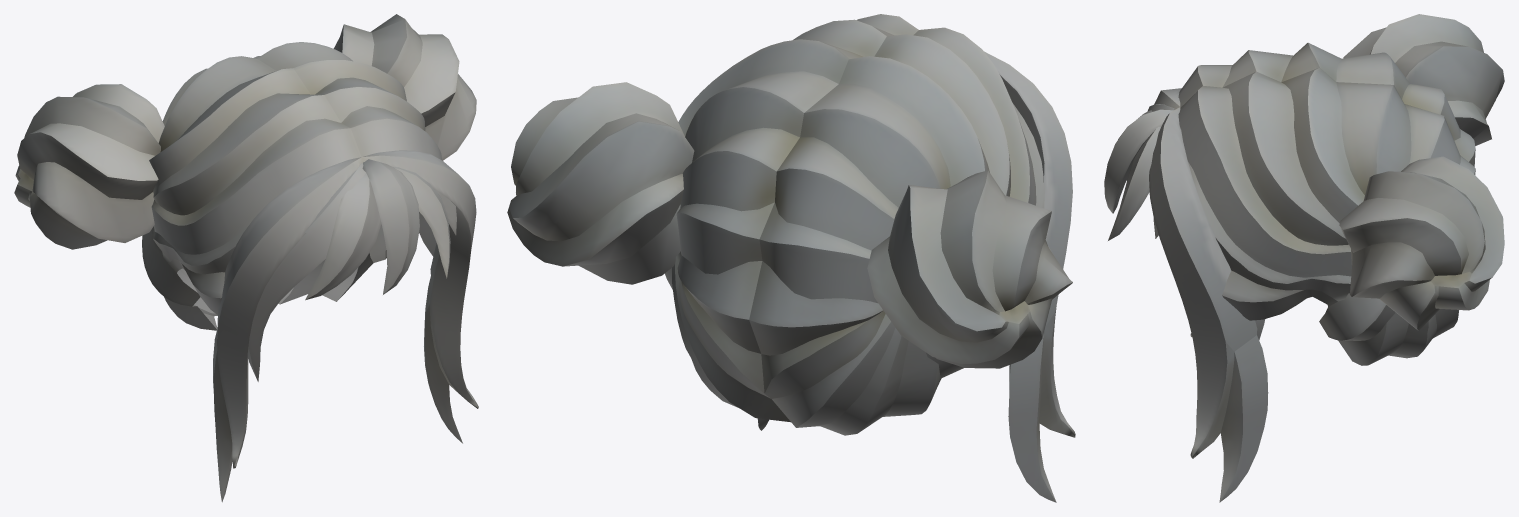
The model's file is hair_buns.glb.
3 views of the same model, side by side, from view 1: azimuth 30°, elevation 25°; view 2: azimuth 150°, elevation 25°; view 3: azimuth 270°, elevation 25° (orthographic). The views are drawn at different scales.
Parts seen in each view (by area): view 1: Hair_Buns; view 2: Hair_Buns; view 3: Hair_Buns.
Boxes of the visible parts, <box> form: Hair_Buns: <box>14,14,478,502</box>; Hair_Buns: <box>507,14,1075,502</box>; Hair_Buns: <box>1104,14,1504,502</box>.
Size of the model in its own units: 0.3015 by 0.2482 by 0.237.
Materials: 1 (1 with a texture image).
